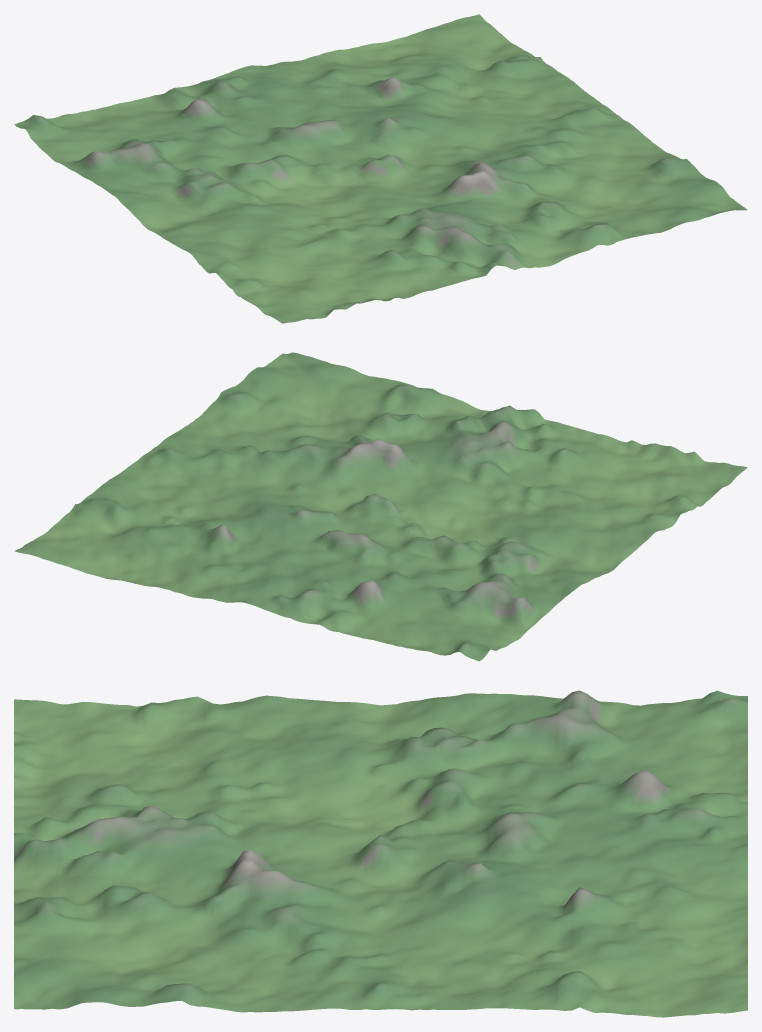
The model's file is gen_terrain_large.glb.
3 renders of one model, top to bottom at view 1: azimuth 30°, elevation 25°; view 2: azimuth 150°, elevation 25°; view 3: azimuth 270°, elevation 25°, orthographic. The views are drawn at different scales.
Visible parts, largest first — view 1: gen_terrain_large; view 2: gen_terrain_large; view 3: gen_terrain_large.
Boxes of the visible parts, x1,y1,x2,y2 form: gen_terrain_large: (14,14,747,323); gen_terrain_large: (14,352,747,661); gen_terrain_large: (14,690,747,1017).
Size of the model in its own units: 64 by 3.8 by 64.
